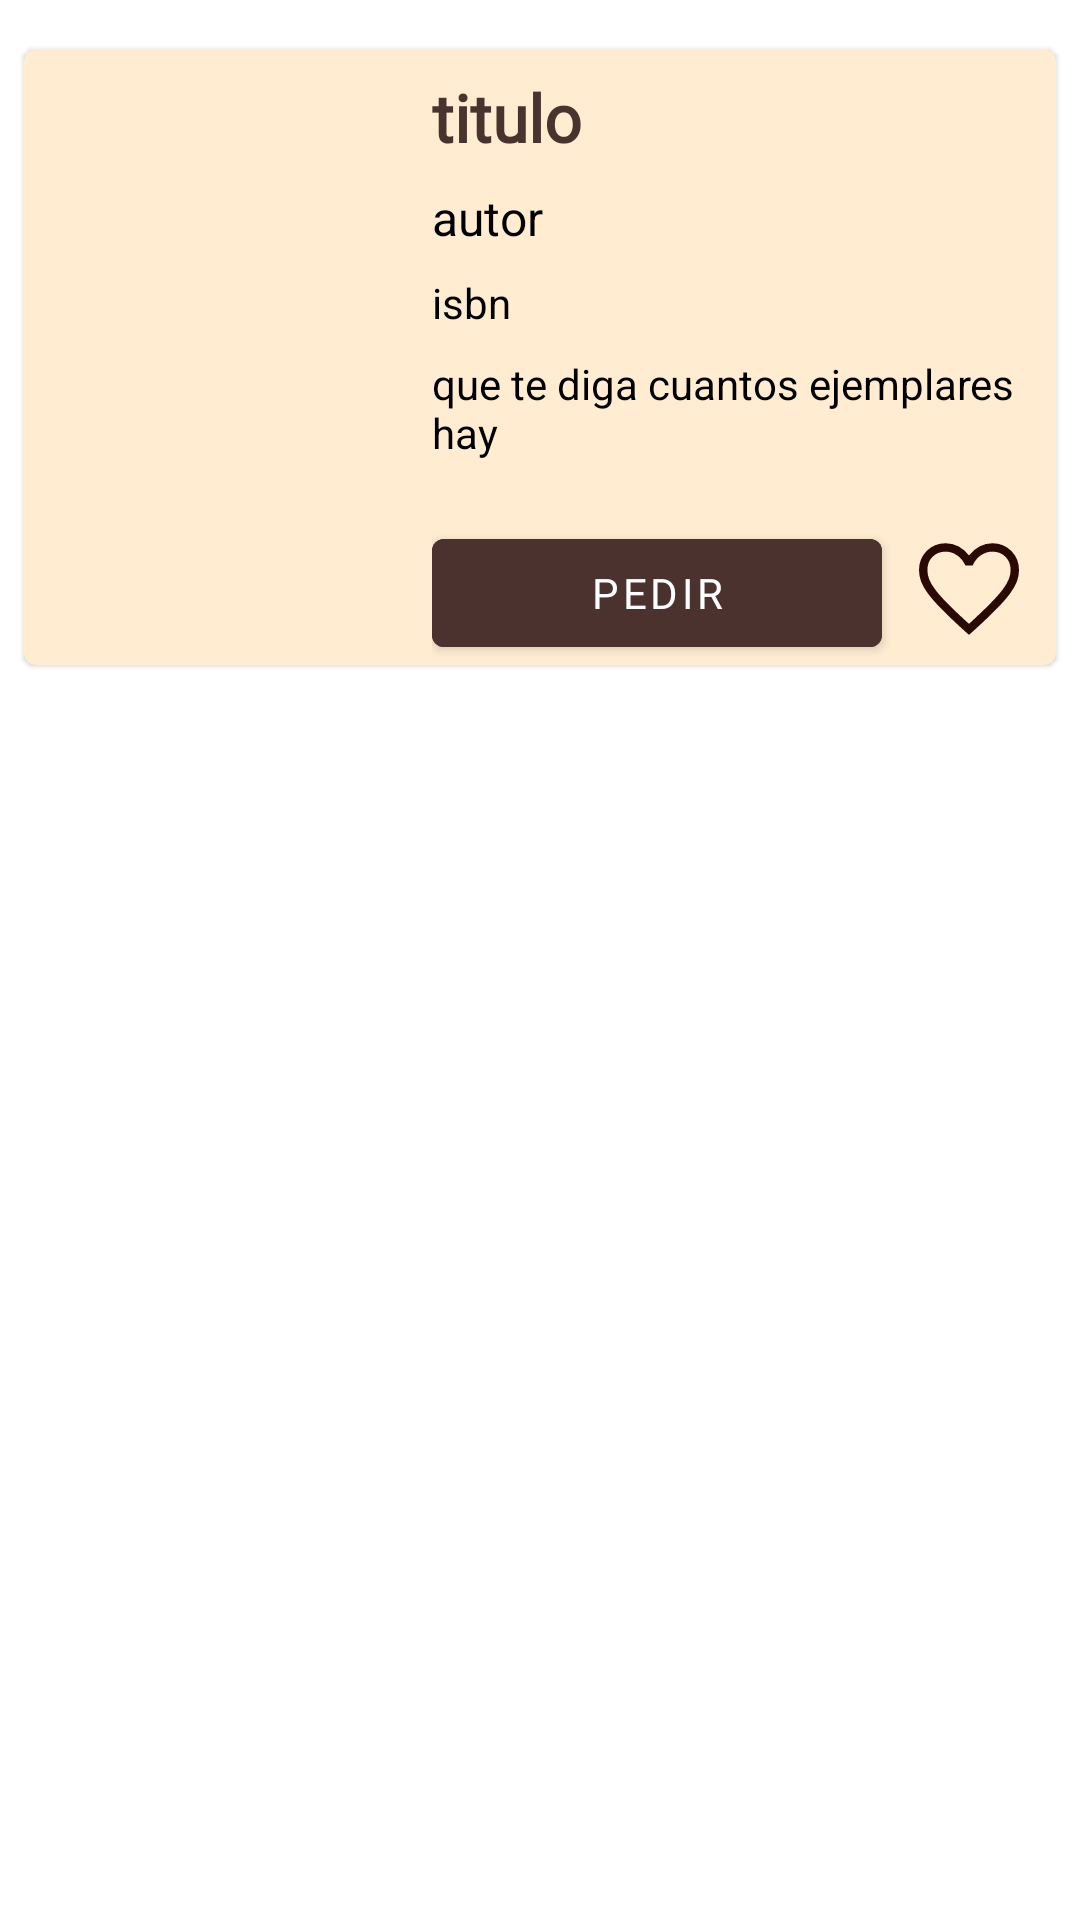

Locate icon controls on the screen. Image size 1080*1920, boxes as BBox(x1, y1, x2, y2).
favorito: BBox(919, 543, 1019, 635)
